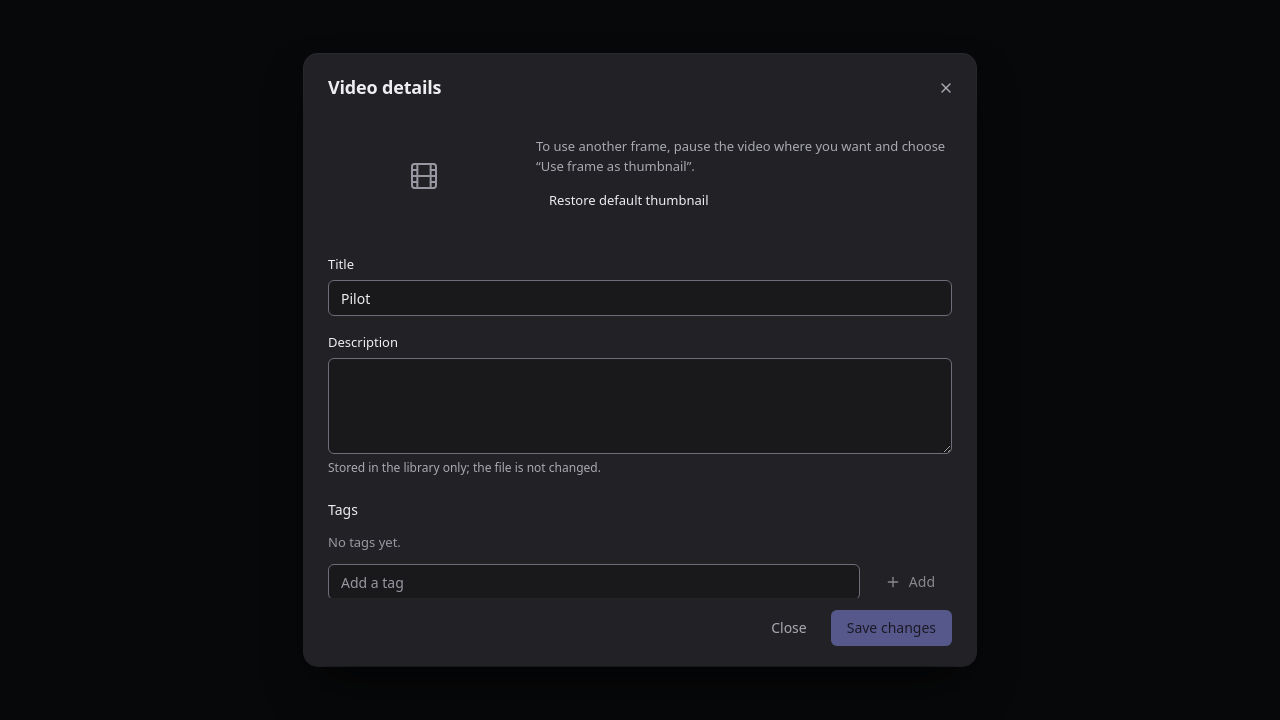
Scenario: video details dialog › does not save an empty title
The image size is (1280, 720).
Step 1. Clear the field labelled "Title" → (640, 298), box [328,280,952,316]
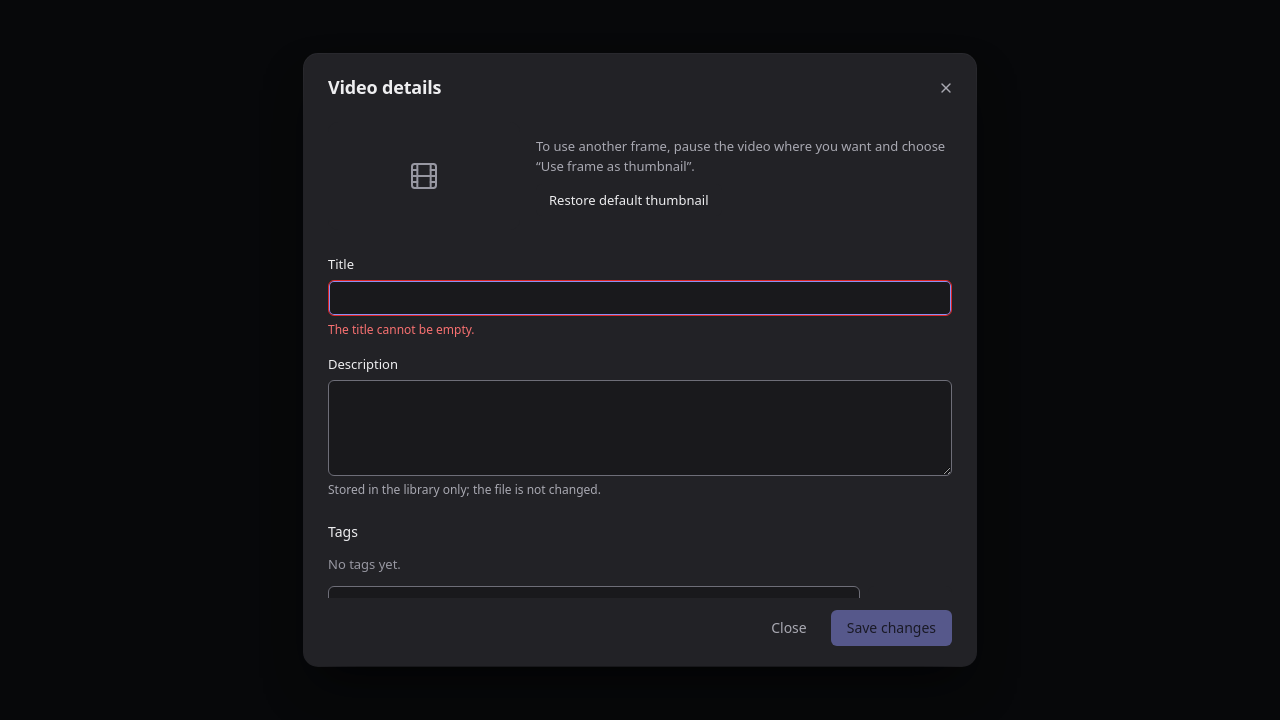
Expected: the button "Save changes" is disabled, [831,610,952,646]
Expected: the text "The title cannot be empty." is shown, [328,321,475,338]
